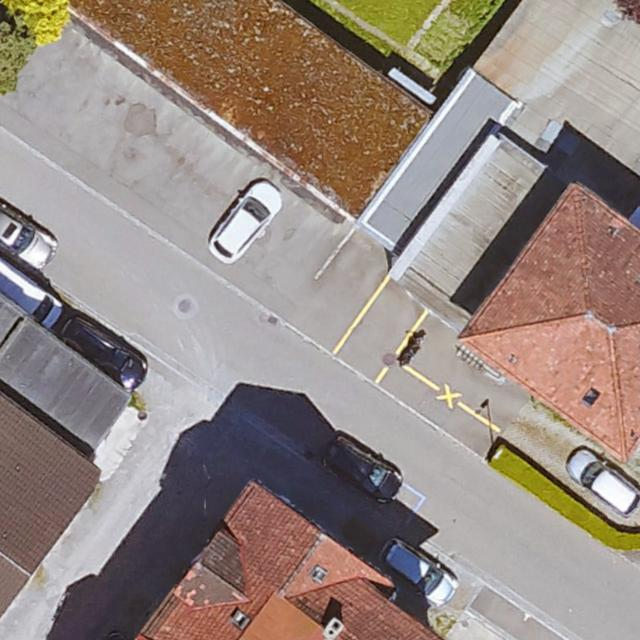tree: (0, 9, 28, 101)
